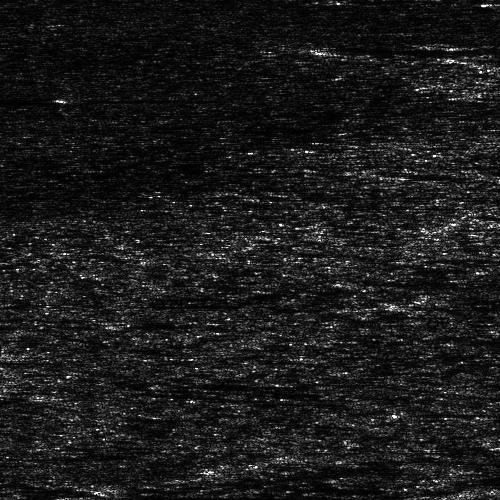object: (280, 45, 385, 54), (470, 436, 500, 455), (61, 91, 72, 108)
shadow: (332, 45, 500, 54), (66, 91, 125, 108), (344, 278, 474, 281)
